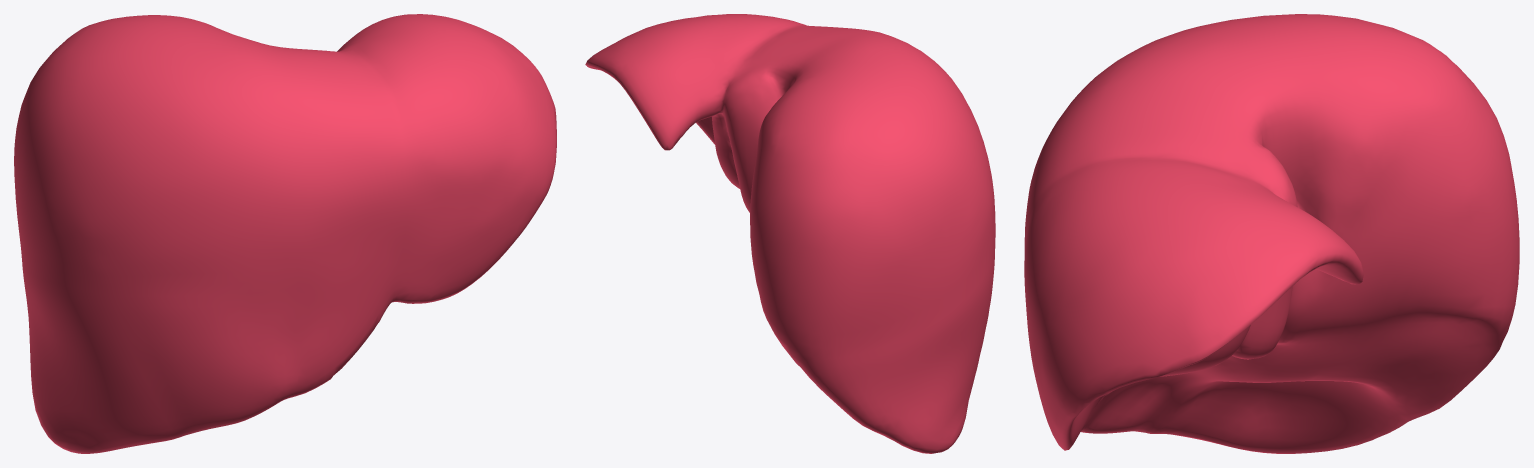
File: Liver.glb
3 views of the same model, side by side, from view 1: azimuth 30°, elevation 25°; view 2: azimuth 150°, elevation 25°; view 3: azimuth 270°, elevation 25° (orthographic). The views are drawn at different scales.
Parts seen in each view (by area): view 1: Liver; view 2: Liver; view 3: Liver.
Boxes of the visible parts, x1,y1,x2,y2 form: Liver: (14, 14, 556, 453); Liver: (585, 14, 995, 453); Liver: (1024, 14, 1519, 453).
Bounding box in the file's own units: 0.2247 × 0.1811 × 0.1668.
